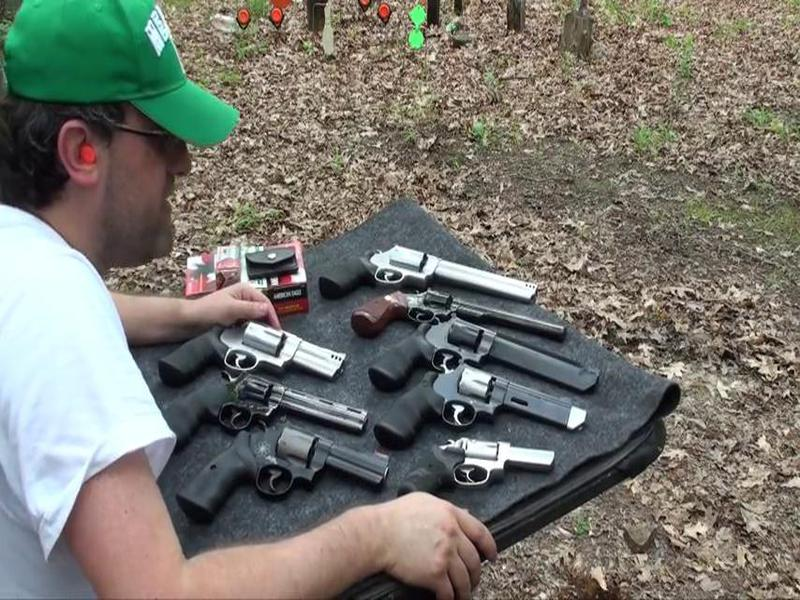Revolver: (156, 368, 375, 443)
